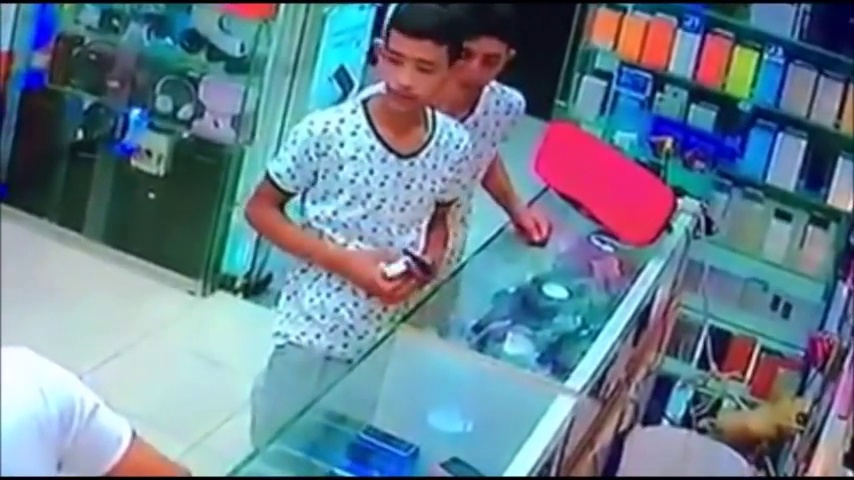face: (376, 26, 443, 113), (443, 42, 507, 106)
